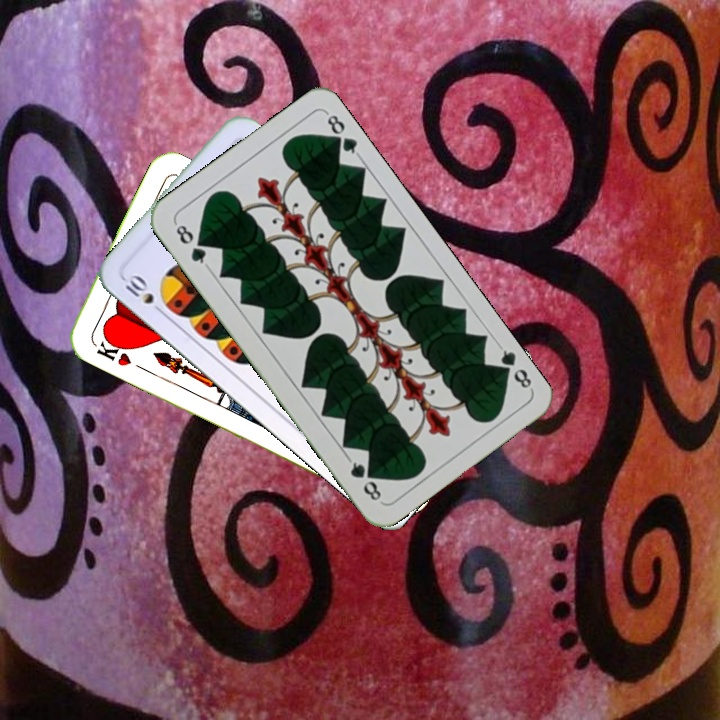G8: (492, 341, 535, 394), (171, 219, 211, 270)
HK: (92, 332, 135, 369)
S10: (119, 269, 168, 318)
